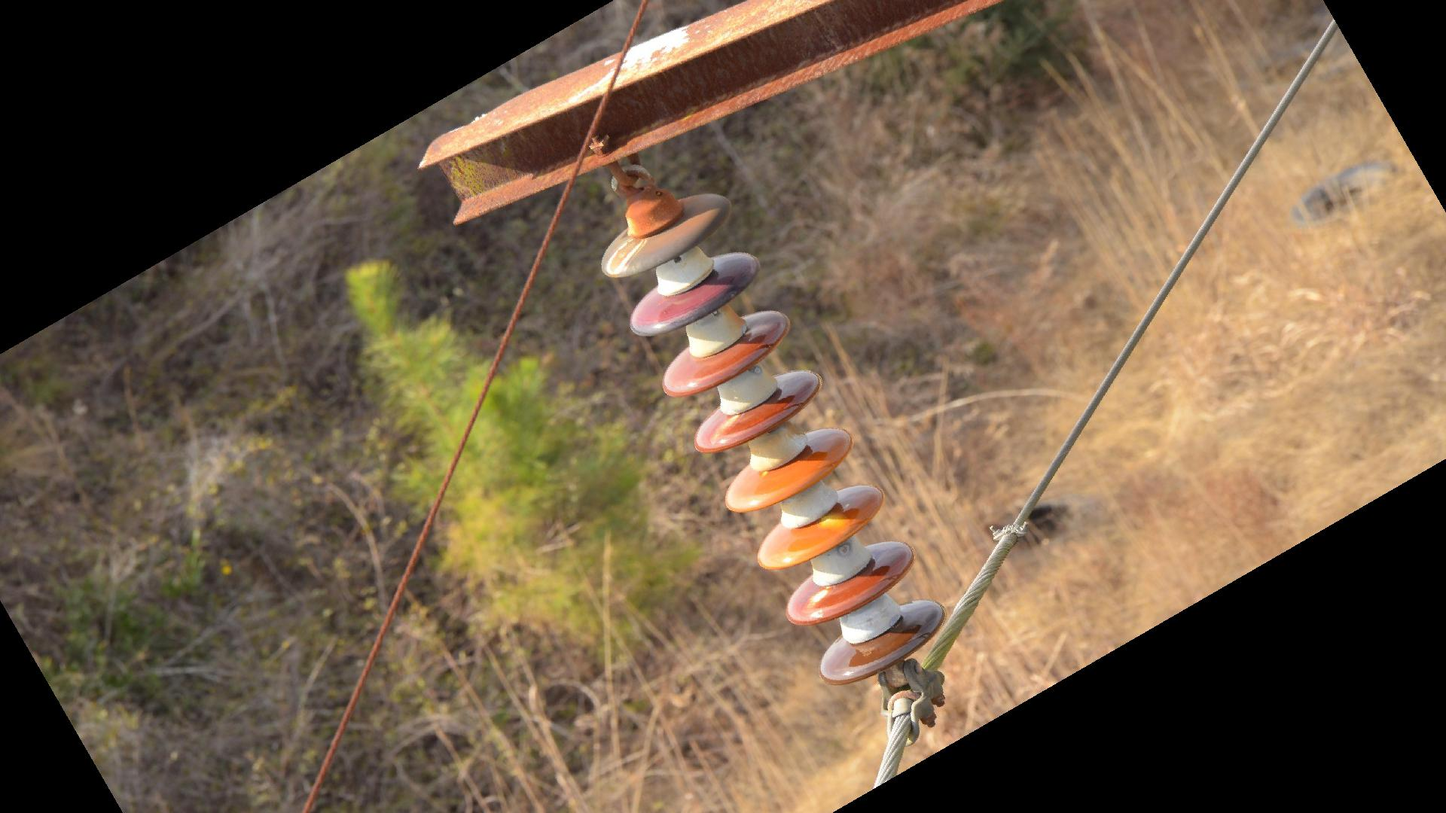insulator: (593, 185, 950, 690)
insulator_flashover: (601, 234, 647, 277), (706, 409, 741, 447)
